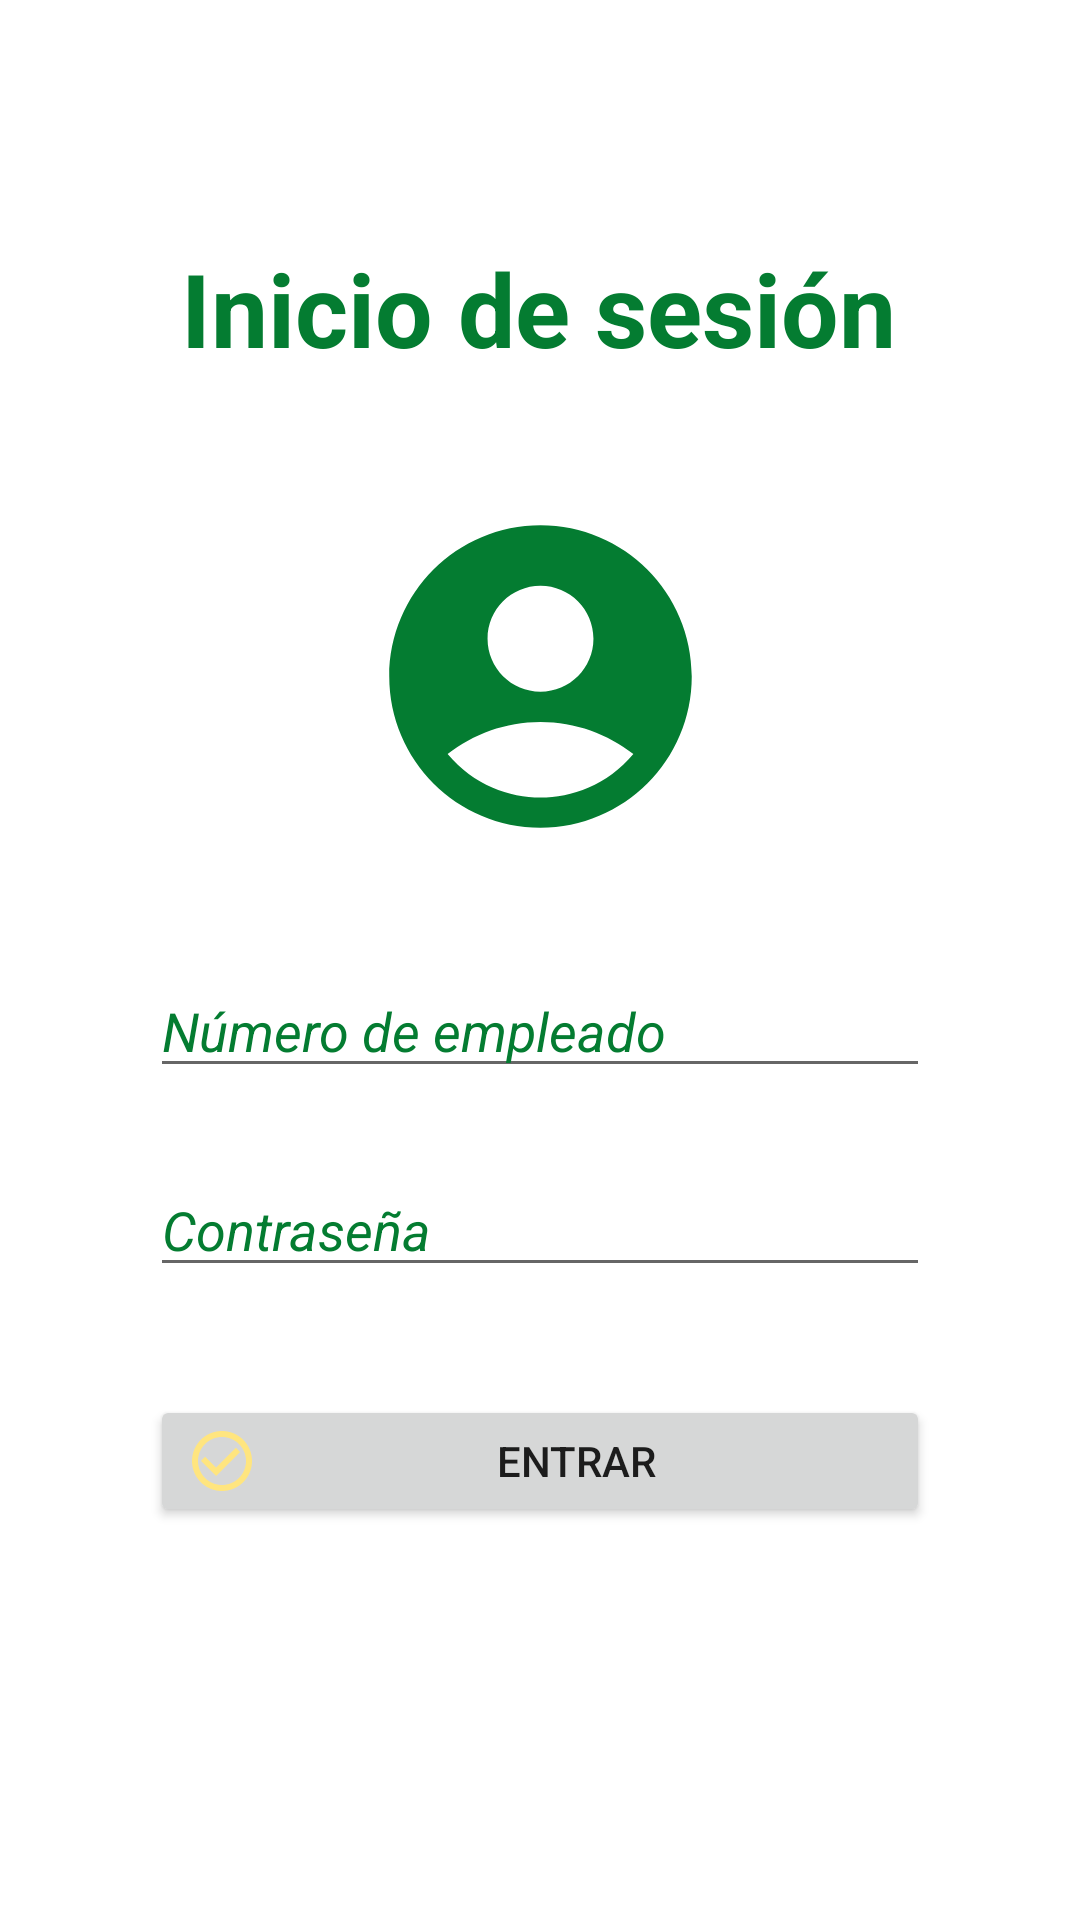

Named icons in this screenshot (1080w x 1920h) and their centers, (x,y):
account verde: (540,676)
